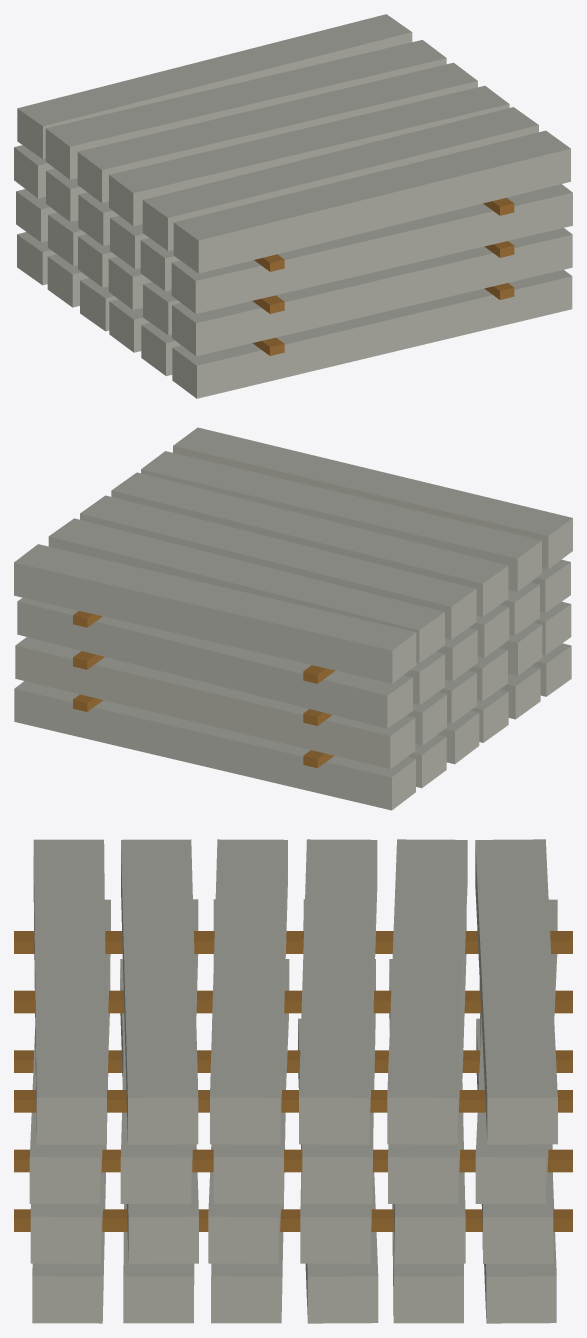
Rendered from SM_TraviesasSueltas_v0_Hormigon_LOD0.fbx.
3 views of the same model, one above another, from view 1: azimuth 30°, elevation 25°; view 2: azimuth 150°, elevation 25°; view 3: azimuth 270°, elevation 25° (orthographic). The views are drawn at different scales.
Visible parts, largest first — view 1: SM_traviesas_sueltas_v0_LOD0; view 2: SM_traviesas_sueltas_v0_LOD0; view 3: SM_traviesas_sueltas_v0_LOD0.
Part boxes in pixels (left/top/right/bottom): SM_traviesas_sueltas_v0_LOD0: left=14, top=14, right=572, bottom=398; SM_traviesas_sueltas_v0_LOD0: left=14, top=427, right=572, bottom=810; SM_traviesas_sueltas_v0_LOD0: left=14, top=839, right=572, bottom=1323.
Bounding box in the file's own units: 2.61 × 1.06 × 2.38.
